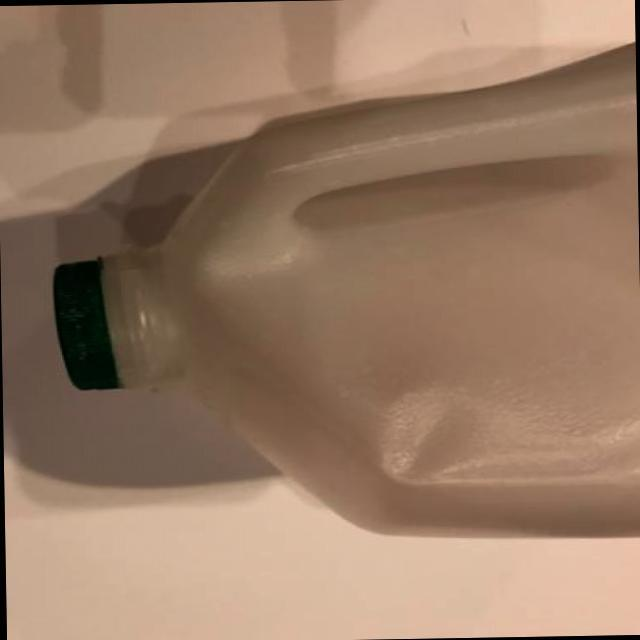HDPE Plastic: (51, 34, 640, 547)
